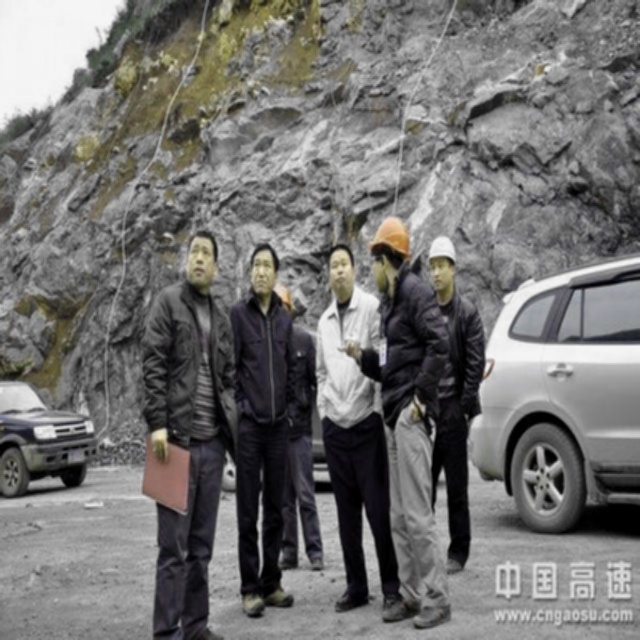Con_Casco: (366, 217, 409, 292), (429, 236, 458, 293)
Sin_Casco_Mascarrilla: (186, 229, 223, 294), (249, 242, 280, 294)
